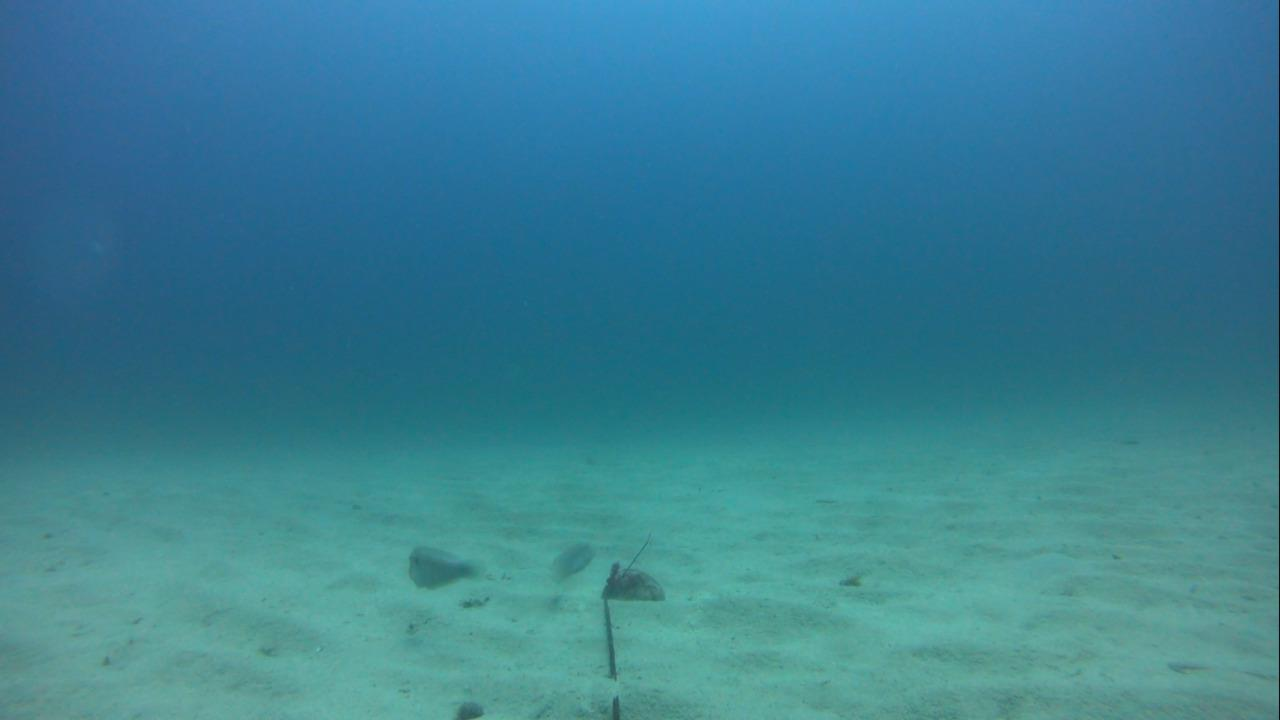raor: (400, 534, 485, 592), (545, 540, 600, 586)
